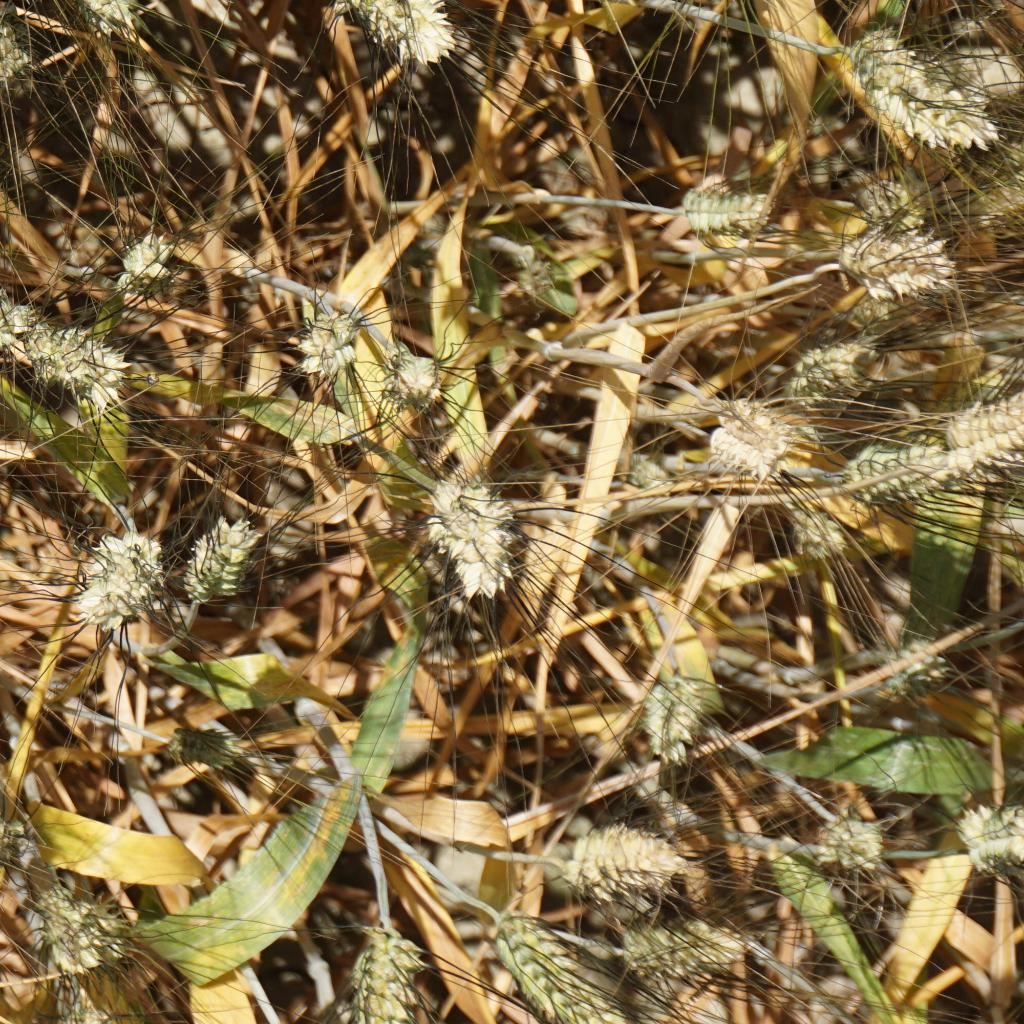0-0: (848, 31, 1003, 165), (487, 916, 627, 1024), (427, 467, 530, 603), (13, 326, 139, 421), (566, 822, 705, 908), (27, 884, 148, 979), (71, 527, 170, 642), (174, 511, 276, 609), (822, 225, 955, 300), (336, 924, 435, 1024), (928, 388, 1023, 485), (627, 917, 750, 985), (325, 0, 459, 62), (709, 395, 802, 484), (636, 656, 707, 762), (841, 438, 950, 501), (375, 339, 449, 419), (945, 803, 1024, 877), (680, 183, 776, 243), (40, 967, 139, 1024), (780, 343, 879, 400), (290, 314, 359, 392), (170, 719, 260, 777), (862, 163, 930, 233), (0, 808, 58, 881), (824, 814, 896, 872), (878, 630, 947, 688), (62, 0, 148, 45), (627, 449, 690, 507), (116, 237, 175, 297), (837, 284, 901, 338), (780, 501, 843, 555), (0, 290, 48, 355), (0, 12, 32, 96), (512, 259, 562, 309)
